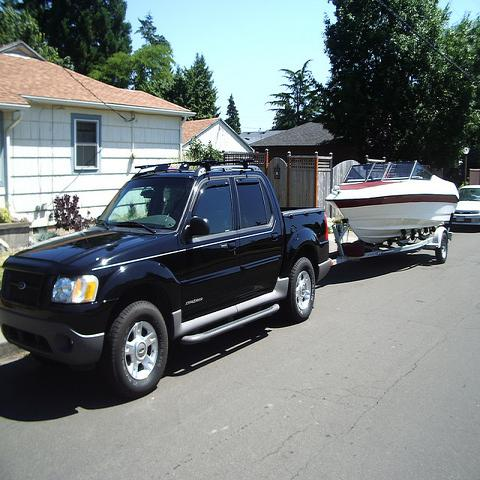car: (452, 184, 480, 228)
truck: (0, 160, 333, 394)
